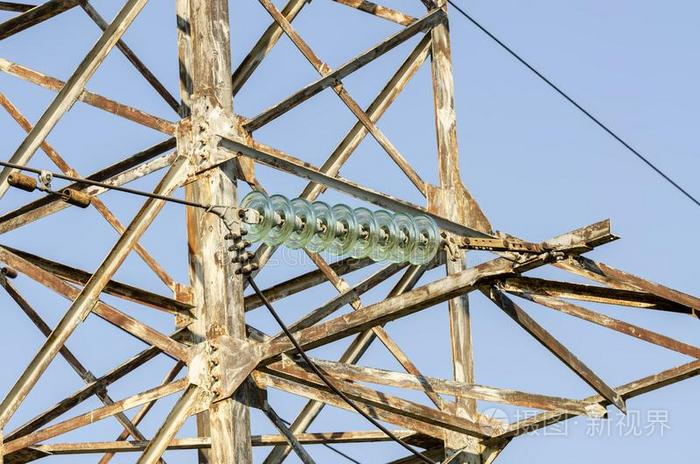insulator: (238, 190, 439, 269)
